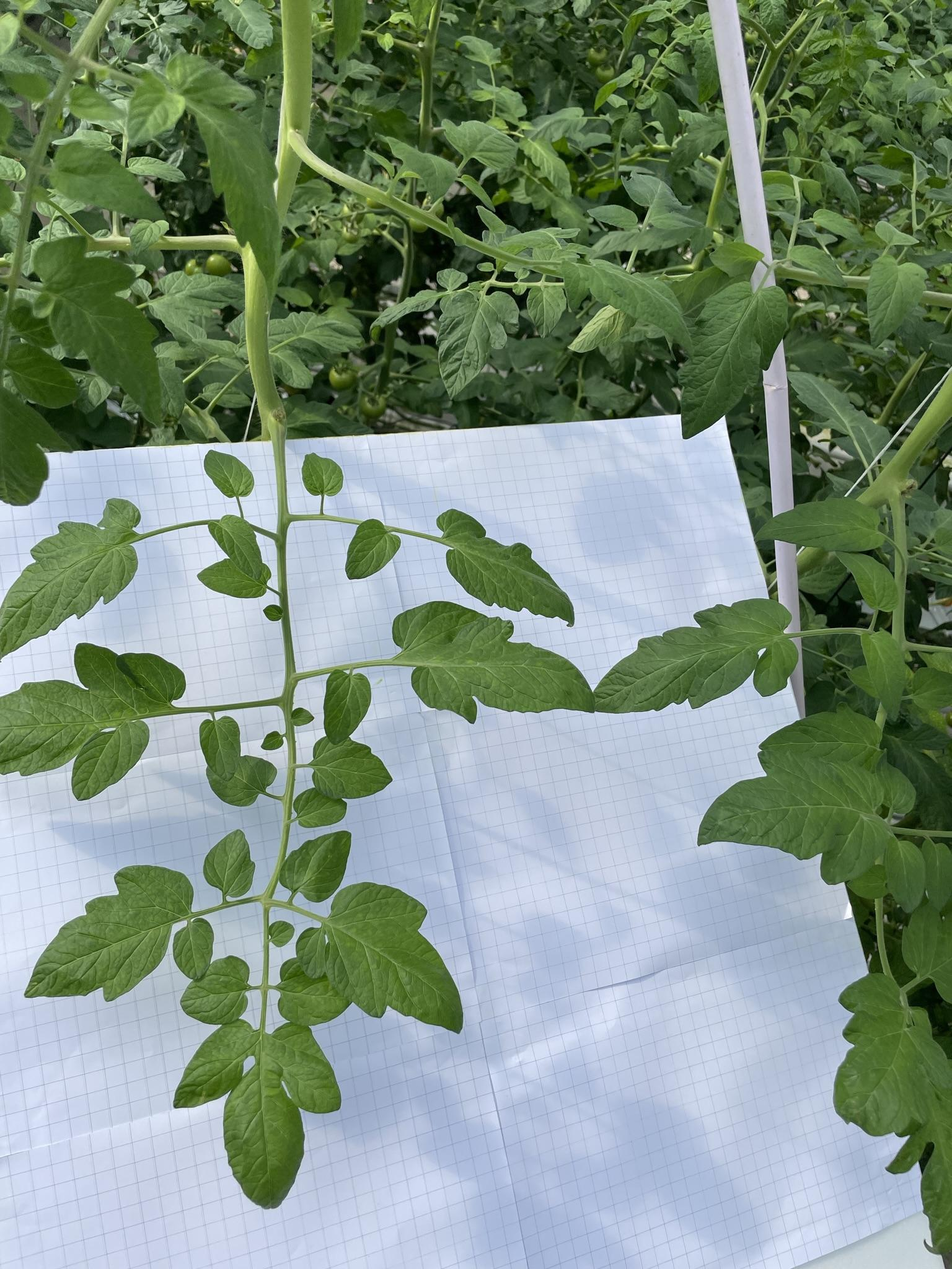Healthy: (832, 971, 952, 1256), (173, 1018, 342, 1209), (167, 51, 281, 315), (0, 642, 186, 802), (699, 749, 892, 885), (30, 235, 164, 429), (296, 882, 464, 1035), (392, 600, 594, 725), (593, 598, 798, 714), (24, 865, 194, 1002), (0, 497, 142, 659), (679, 280, 789, 441), (435, 509, 575, 628), (559, 256, 696, 364), (436, 288, 520, 402), (50, 139, 167, 220), (0, 384, 73, 507), (758, 710, 883, 774), (757, 498, 884, 553), (865, 255, 929, 350), (278, 830, 352, 903), (591, 209, 713, 253), (901, 900, 952, 1004), (277, 957, 353, 1026), (312, 736, 393, 800), (383, 135, 457, 205), (786, 368, 862, 436), (6, 342, 82, 410), (178, 955, 250, 1025), (149, 270, 244, 321), (621, 169, 695, 230), (128, 72, 188, 146), (496, 226, 581, 275), (441, 117, 518, 171), (268, 311, 367, 353), (862, 631, 906, 724), (835, 550, 899, 612), (622, 0, 692, 55), (322, 669, 372, 745), (202, 828, 256, 898), (664, 120, 728, 179), (206, 755, 278, 807), (207, 514, 263, 580), (345, 518, 402, 582), (519, 137, 572, 203), (213, 0, 274, 51), (198, 558, 272, 599), (885, 839, 926, 913), (595, 54, 645, 112), (199, 715, 242, 782), (820, 146, 860, 217), (787, 243, 849, 288), (370, 288, 436, 329), (203, 449, 255, 499), (173, 917, 214, 980), (688, 28, 720, 106), (876, 756, 916, 816), (293, 787, 348, 828), (68, 84, 127, 122), (527, 283, 567, 339), (922, 838, 952, 911), (525, 106, 587, 141), (709, 242, 764, 279), (813, 208, 865, 247), (302, 452, 344, 498), (156, 307, 208, 344), (269, 349, 315, 390), (127, 156, 190, 184), (913, 667, 952, 710), (157, 366, 186, 420), (130, 219, 170, 258), (653, 92, 680, 147), (846, 864, 888, 899), (455, 35, 502, 66), (200, 382, 253, 409), (461, 172, 496, 212), (798, 54, 841, 86), (587, 204, 639, 230), (875, 219, 921, 248), (859, 108, 895, 145), (758, 0, 788, 43), (907, 77, 950, 105), (854, 164, 904, 186), (191, 338, 239, 358), (476, 205, 506, 235), (921, 102, 947, 134), (661, 52, 692, 77), (0, 155, 27, 183), (624, 112, 642, 149), (437, 267, 468, 288), (112, 36, 133, 64), (130, 278, 153, 300), (159, 0, 189, 16), (782, 125, 798, 152)
